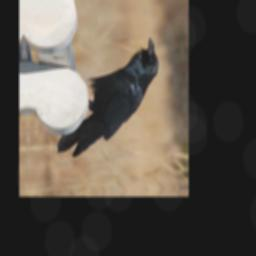Crow: (51, 36, 163, 159)
